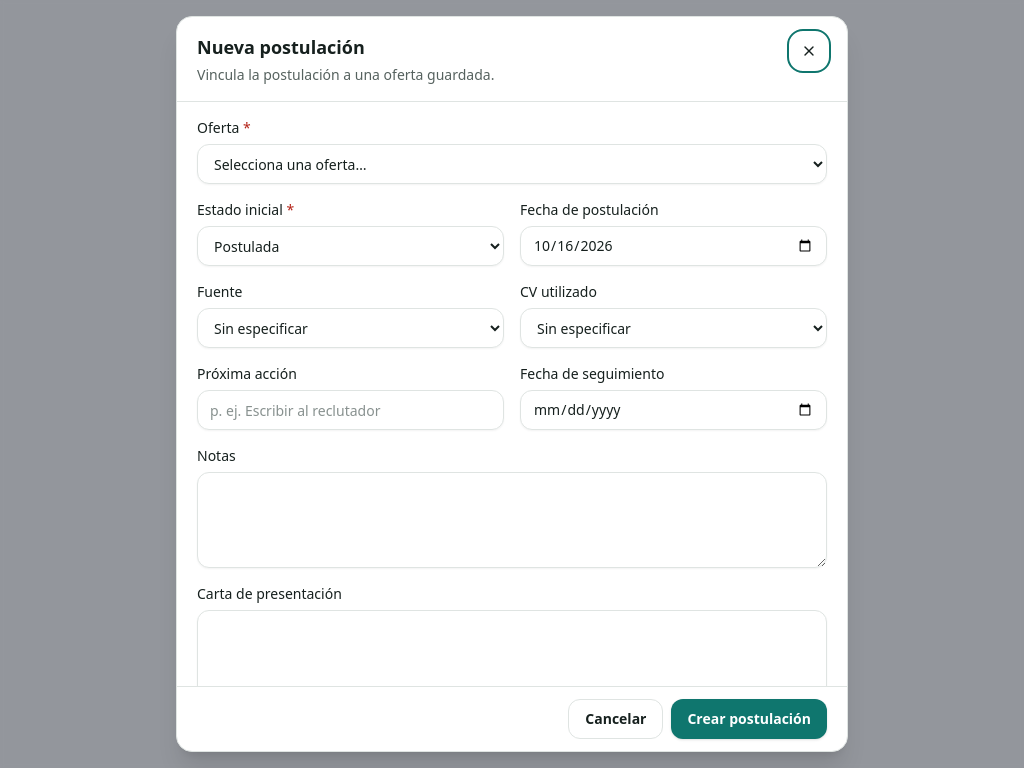
Test: creating an application › requires choosing an offer
Click the button "Crear postulación".
click(749, 719)  # box [672, 699, 827, 739]
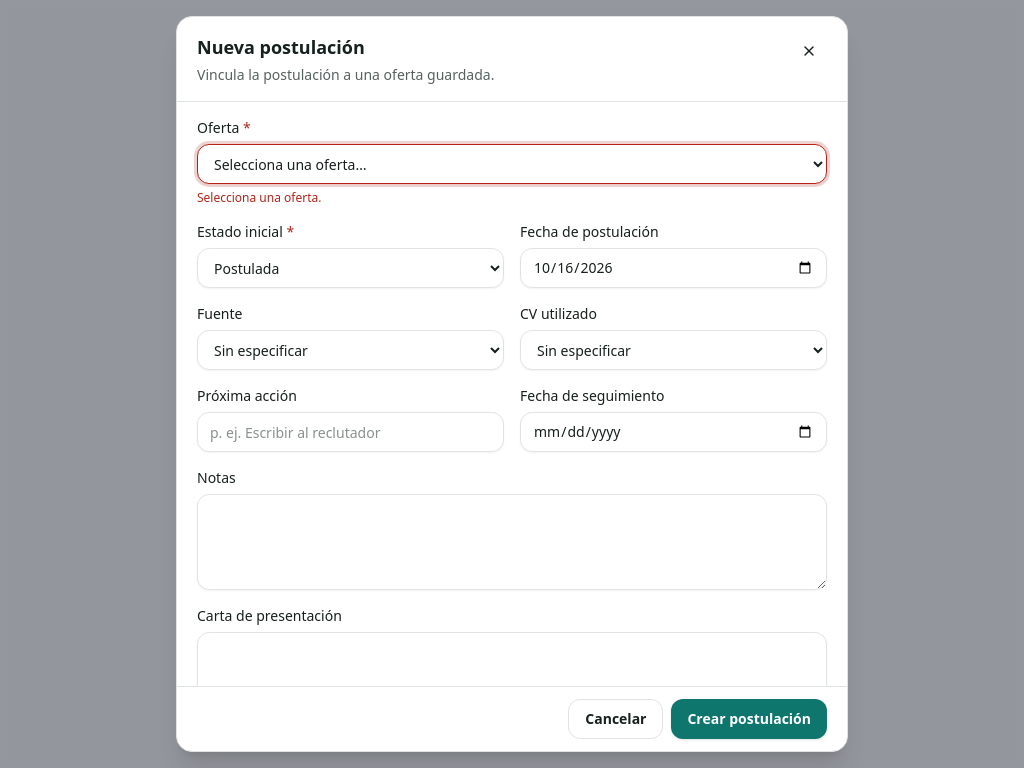
Check: the text "Selecciona una oferta." is shown, box [197, 189, 322, 206]
